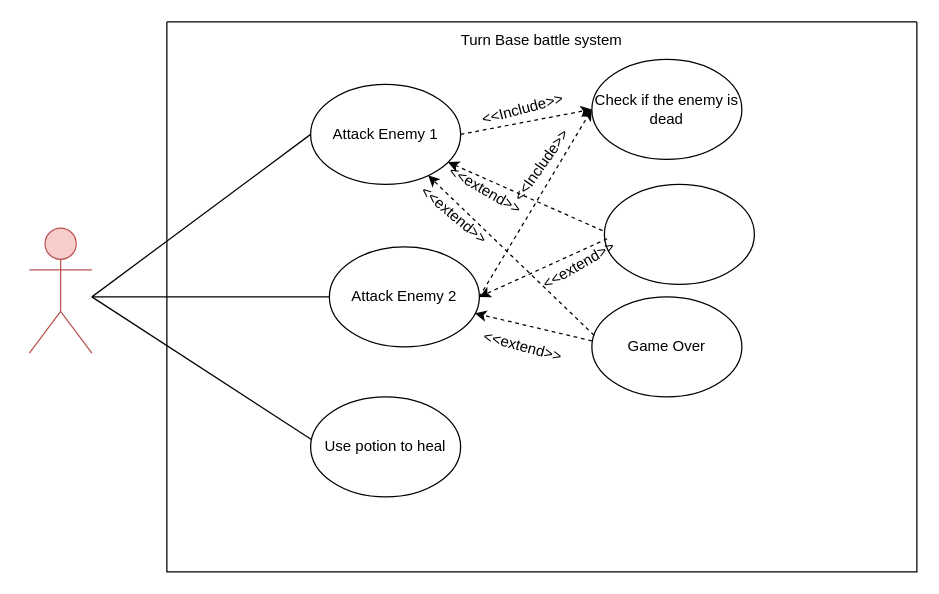
Some shapes in this 939 by 594 pixel diagram are drawn without their labels. The shapes that lost their labels are listed below. From the top down, each one's box as (x1, y1, x2, y2) in pixels, then its label:
(603, 183, 754, 284): Restart
(28, 227, 92, 353): Player/User
